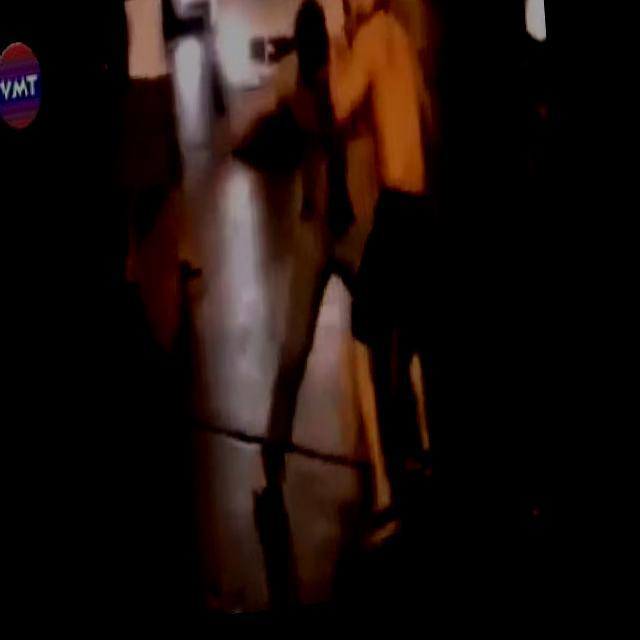fight: (212, 0, 450, 571)
